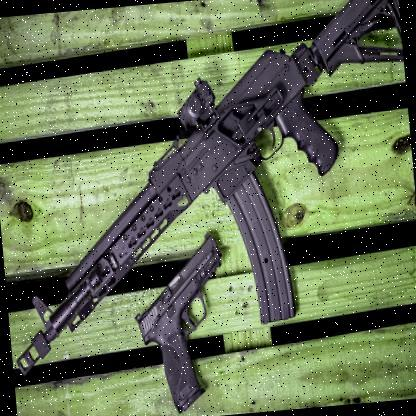rifle: (0, 0, 416, 392), (119, 219, 249, 416)
